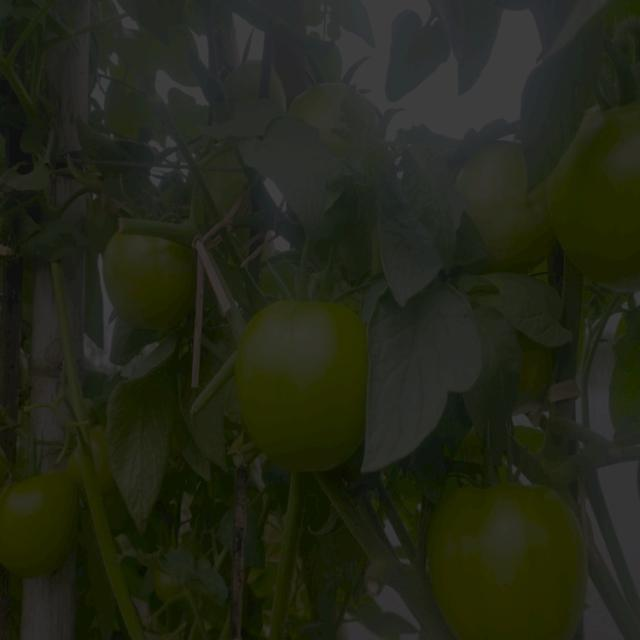tomato: (433, 474, 585, 640), (237, 295, 369, 469), (554, 104, 640, 278), (462, 144, 561, 275), (100, 229, 189, 330), (8, 464, 75, 579), (201, 149, 251, 216), (303, 84, 349, 133)
